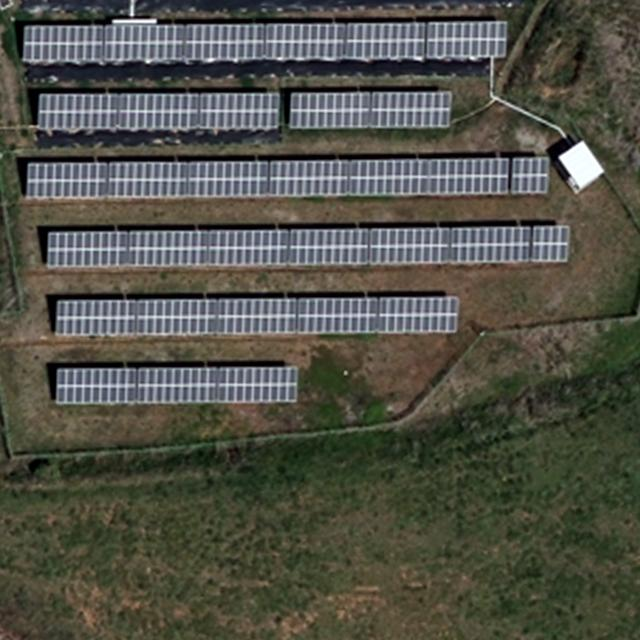panel: (350, 158, 510, 197), (36, 92, 120, 134), (46, 229, 131, 270), (288, 225, 369, 267), (198, 92, 283, 132), (20, 23, 105, 63), (128, 228, 209, 269), (209, 227, 291, 267), (185, 22, 267, 62), (368, 226, 452, 265), (24, 160, 108, 199), (121, 91, 201, 131), (268, 159, 351, 197), (104, 23, 184, 62), (259, 22, 339, 61), (345, 22, 425, 61), (107, 159, 189, 197), (289, 90, 371, 128), (424, 20, 508, 57), (55, 297, 136, 335), (136, 298, 217, 336), (451, 225, 532, 263), (55, 367, 138, 404), (379, 297, 459, 335), (136, 366, 218, 403), (297, 298, 379, 335), (370, 91, 452, 128), (217, 367, 298, 404), (188, 159, 269, 196), (217, 298, 297, 334), (531, 223, 571, 264), (510, 156, 551, 195)
